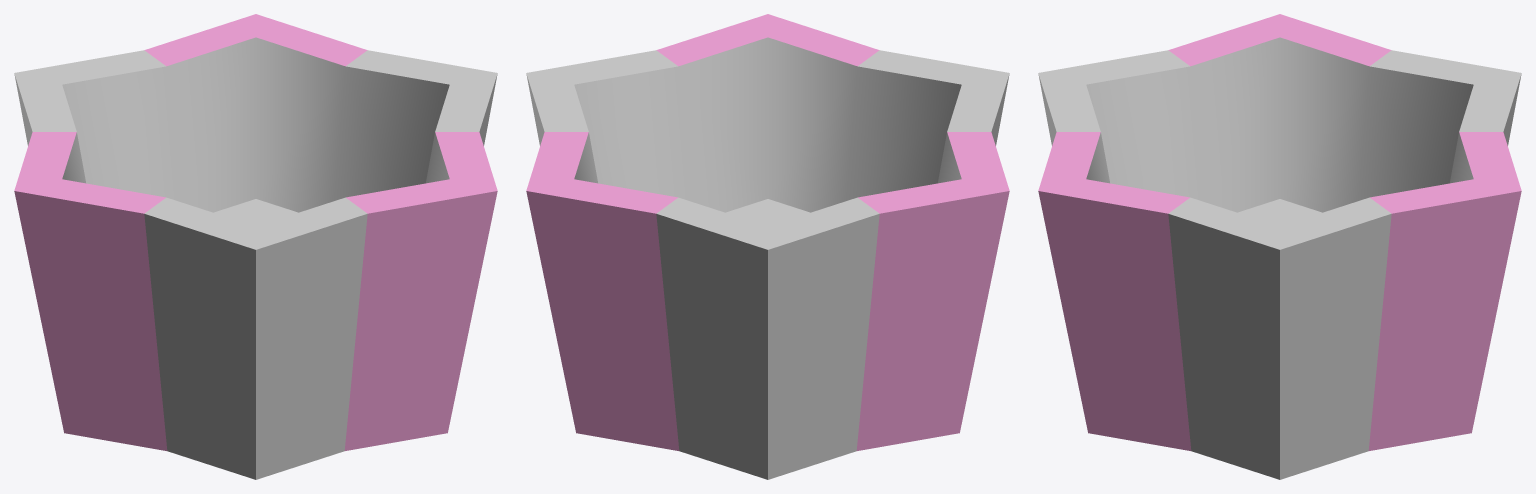
File: cupcake.GLB
3 views of the same model, side by side, from view 1: azimuth 30°, elevation 25°; view 2: azimuth 150°, elevation 25°; view 3: azimuth 270°, elevation 25° (orthographic).
Visible parts, largest first — view 1: cupcake; view 2: cupcake; view 3: cupcake.
Boxes of the visible parts, x1,y1,x2,y2 form: cupcake: (14, 14, 497, 479); cupcake: (526, 14, 1009, 479); cupcake: (1038, 14, 1521, 479).
Size of the model in its own units: 0.3552 by 0.1786 by 0.3076.
